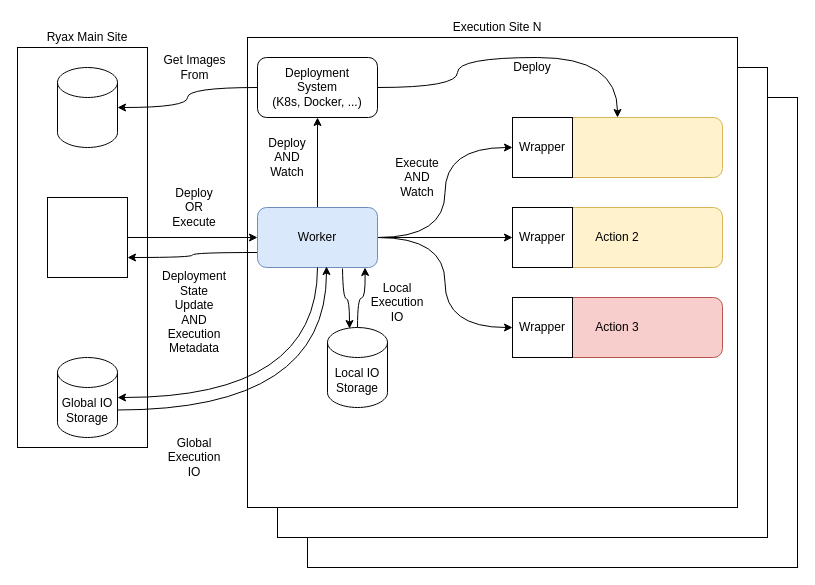
This 815x585 diagram has some shape labels left out. The box of each missing label's shape, as (x1, y1, x2, y2) in pixels:
Action 1: (512, 116, 722, 178)
Container Registry: (56, 66, 118, 148)
Ryax: (46, 196, 128, 278)
